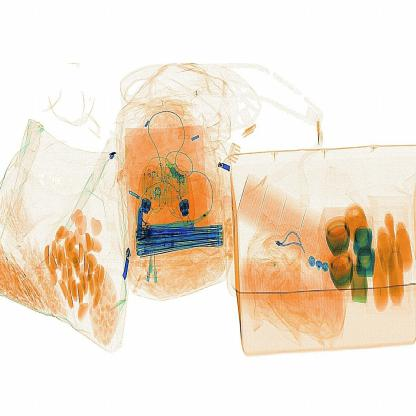pliers: (141, 215, 210, 240)
